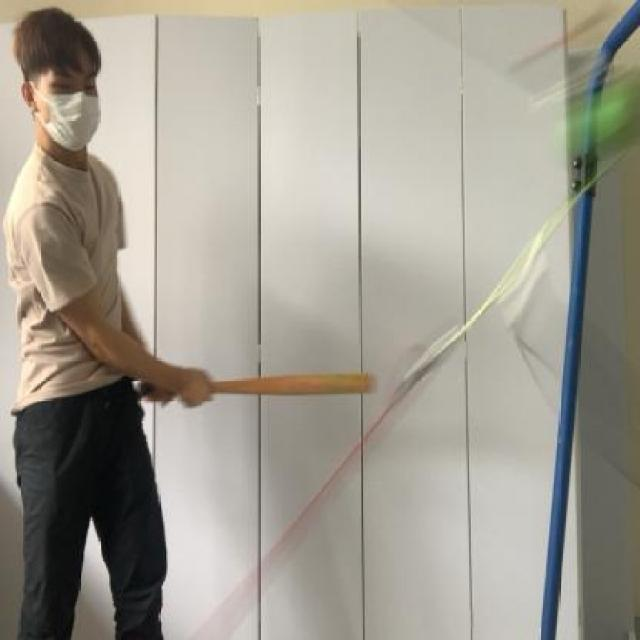baseball: (540, 82, 625, 142)
